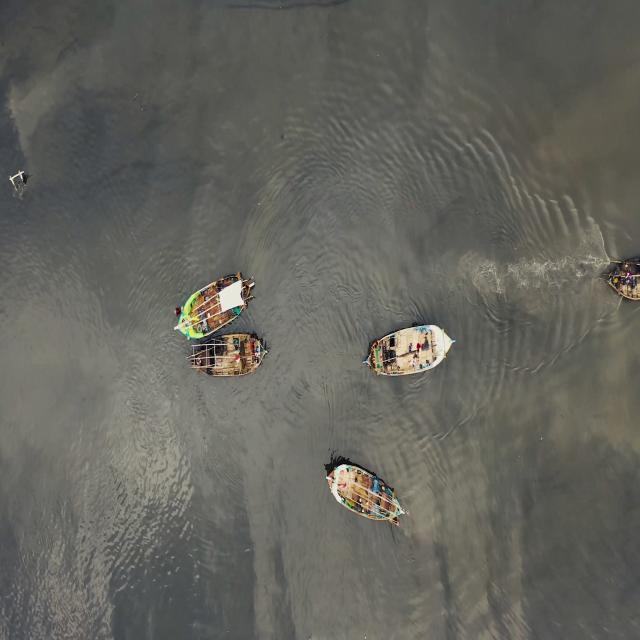ship: (366, 323, 461, 380), (327, 463, 403, 525), (192, 332, 274, 386), (187, 279, 257, 328), (604, 261, 640, 302)
